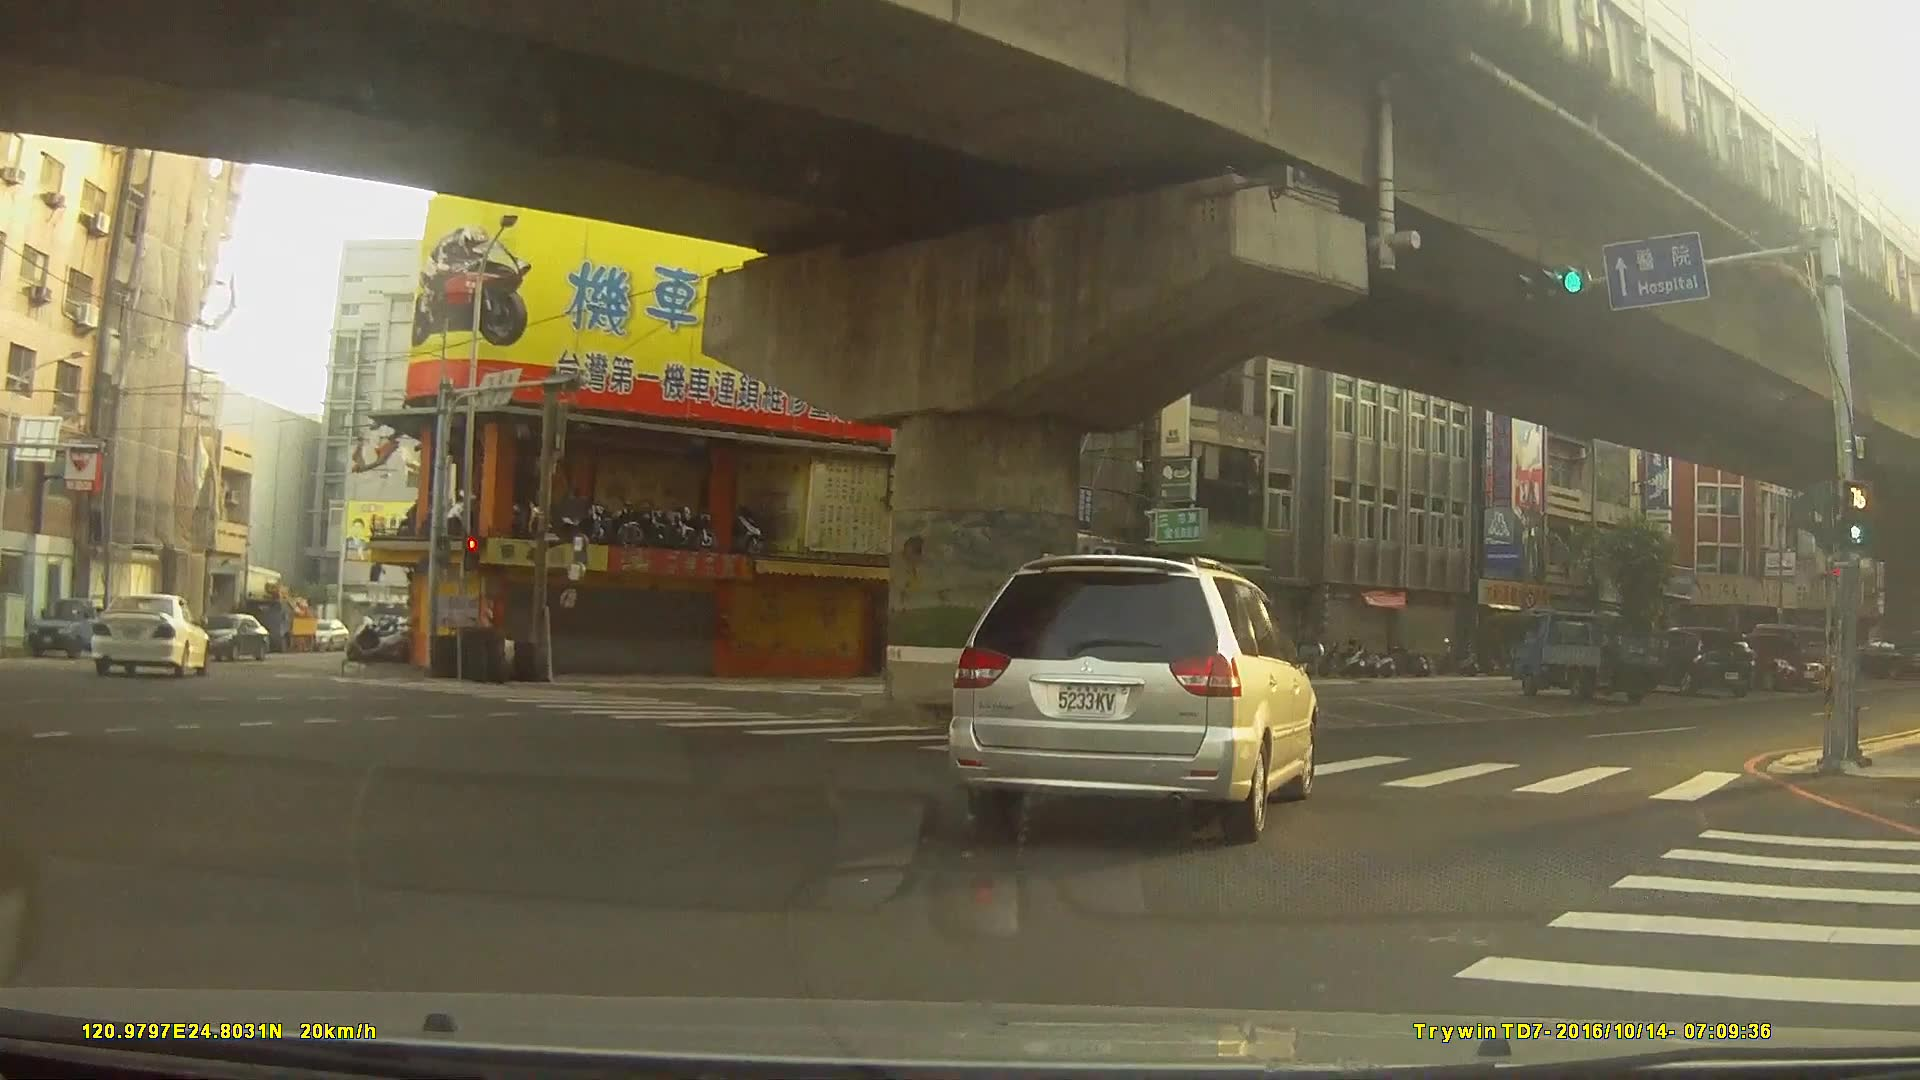vehicle: (945, 555, 1317, 843), (1509, 609, 1669, 704), (87, 592, 208, 679), (1631, 624, 1758, 694), (1725, 630, 1822, 691), (28, 596, 116, 657), (194, 612, 266, 659), (306, 618, 349, 649)
